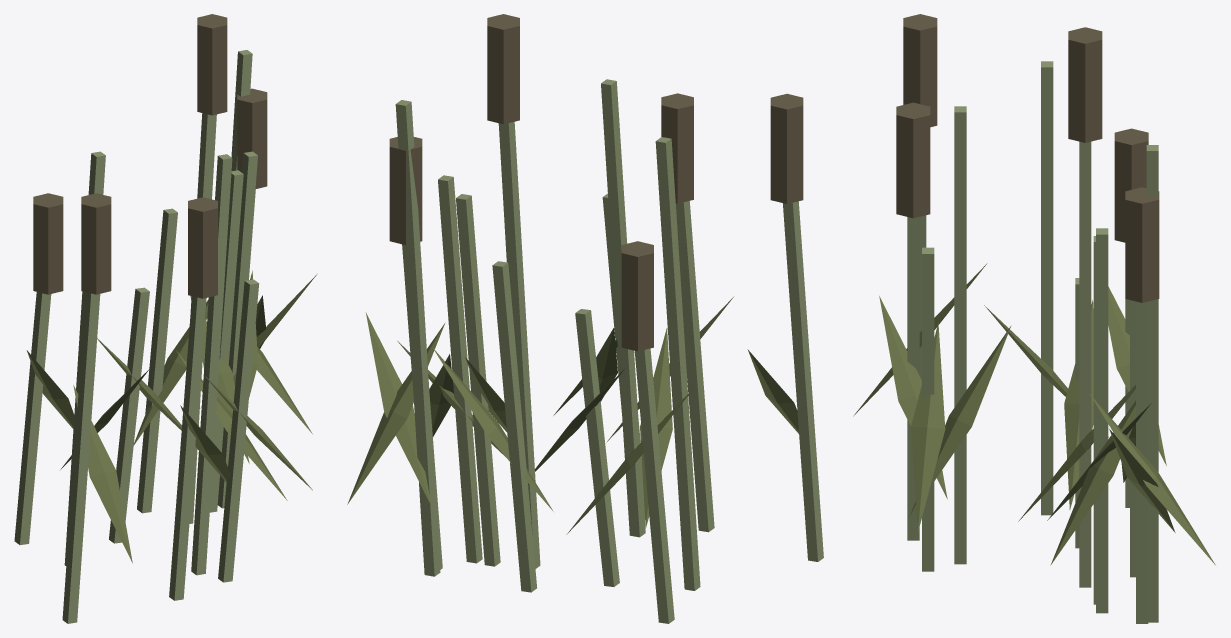
File: reeds.glb
The picture shows the model from 3 angles, left to right: view 1: azimuth 30°, elevation 25°; view 2: azimuth 150°, elevation 25°; view 3: azimuth 270°, elevation 25°; orthographic projection. The views are drawn at different scales.
Parts seen in each view (by area): view 1: root; view 2: root; view 3: root.
Boxes of the visible parts, <box> form: root: <box>14,14,317,623</box>; root: <box>347,14,823,623</box>; root: <box>853,14,1215,623</box>.
Size of the model in its own units: 1.01 by 1.42 by 0.8326.
1 material, 1 textured.
